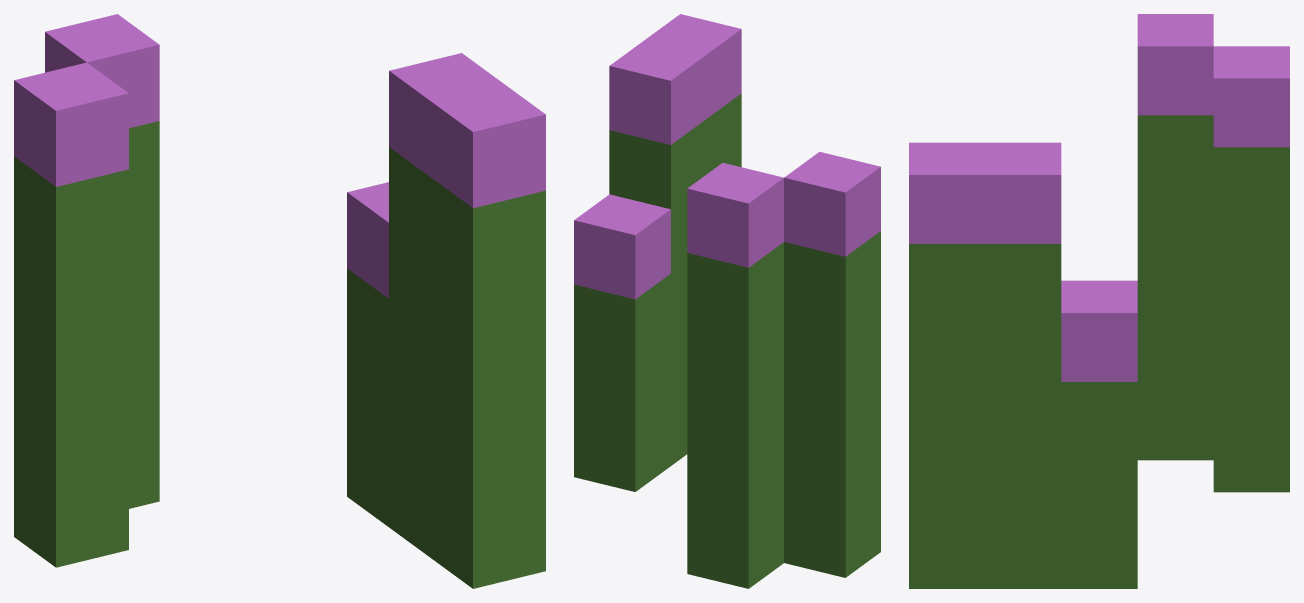
Rendered from flowers_p.glb.
The picture shows the model from 3 angles, left to right: view 1: azimuth 30°, elevation 25°; view 2: azimuth 150°, elevation 25°; view 3: azimuth 270°, elevation 25°; orthographic projection. The views are drawn at different scales.
Parts seen in each view (by area): view 1: flowers_p; view 2: flowers_p; view 3: flowers_p.
Part boxes in pixels (x1,y1,x2,y2): flowers_p: [14, 14, 545, 588]; flowers_p: [574, 14, 880, 588]; flowers_p: [909, 14, 1289, 588].
Size of the model in its own units: 0.5 by 0.6 by 0.5.
Materials: 1 (1 with a texture image).
